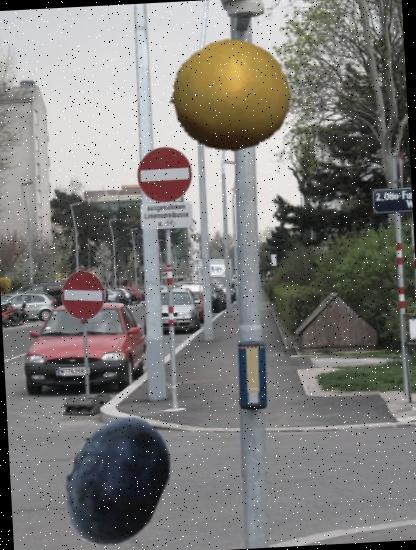Blueberry: (45, 409, 187, 550)
Grapefruit: (166, 32, 292, 158)
